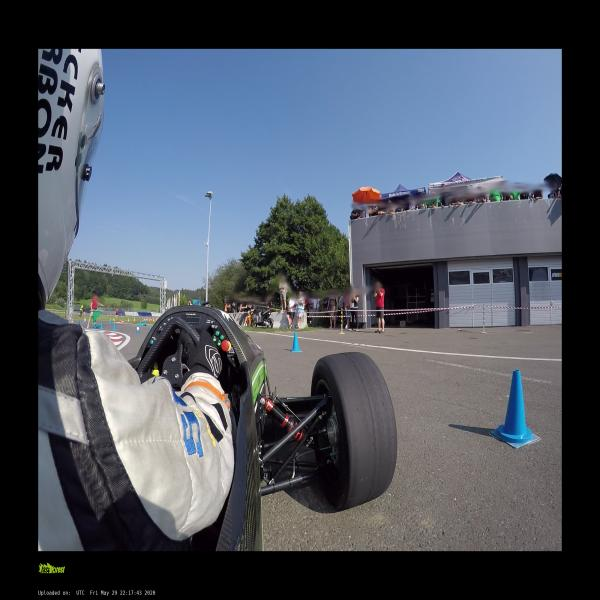blue_cone: (488, 370, 540, 449), (290, 332, 302, 352), (136, 325, 140, 333), (94, 324, 100, 329), (100, 321, 103, 329), (113, 323, 116, 330), (150, 327, 151, 331)
orange_cone: (83, 318, 87, 322), (133, 317, 135, 321), (127, 318, 129, 322), (69, 318, 71, 320)
